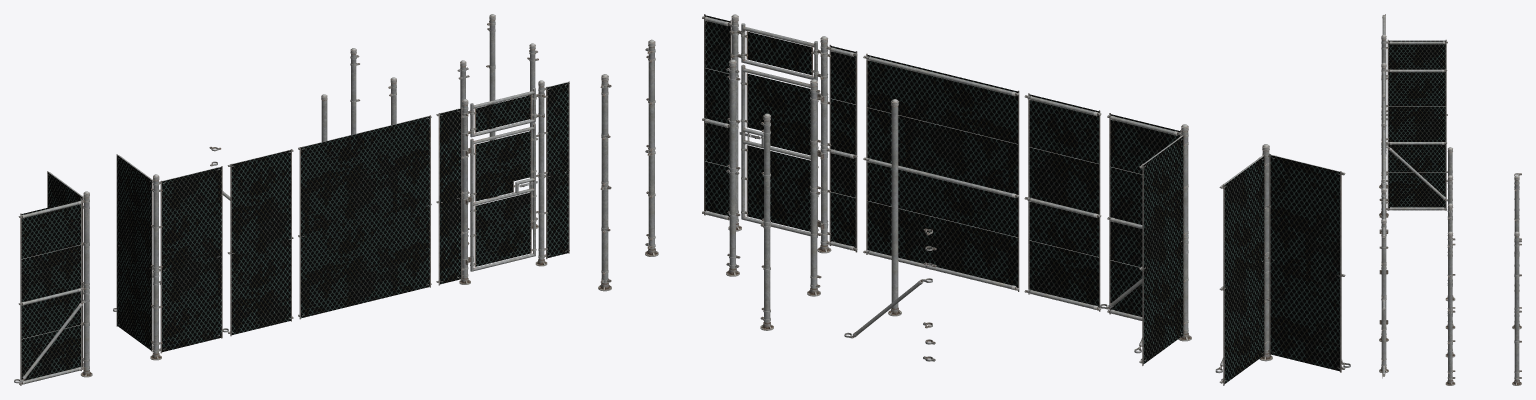
Rendered from alambrado.glb.
3 views of the same model, side by side, from view 1: azimuth 30°, elevation 25°; view 2: azimuth 150°, elevation 25°; view 3: azimuth 270°, elevation 25° (orthographic). The views are drawn at different scales.
Parts seen in each view (by area): view 1: modular_chainlink_fence_double, modular_chainlink_fence_corner_outer, modular_chainlink_fence_door_frame, modular_chainlink_fence_corner_inner, modular_chainlink_fence, modular_chainlink_fence_door_gate, modular_chainlink_fence_start_01_corner_02, modular_chainlink_fence_start_01_corner_01, modular_chainlink_fence_end_02; view 2: modular_chainlink_fence_double, modular_chainlink_fence_corner_inner, modular_chainlink_fence_corner_outer, modular_chainlink_fence_door_frame, modular_chainlink_fence, modular_chainlink_fence_door_gate, modular_chainlink_fence_end_01, modular_chainlink_fence_start_01_corner_02, modular_chainlink_fence_post, modular_chainlink_post_middle, modular_chainlink_fence_start_01_corner_01, modular_chainlink_fence_end_02; view 3: modular_chainlink_fence_corner_outer, modular_chainlink_fence_corner_inner, modular_chainlink_fence_door_frame, modular_chainlink_fence_start_01_corner_02, modular_chainlink_fence_start_01_corner_01, modular_chainlink_fence_end_02, modular_chainlink_fence_double, modular_chainlink_fence_end_01, modular_chainlink_post_middle, modular_chainlink_fence_post.
Part boxes in pixels (x1,y1,x2,y2): modular_chainlink_fence_double: [298, 115, 431, 319]; modular_chainlink_fence_corner_outer: [113, 154, 228, 360]; modular_chainlink_fence_door_frame: [436, 80, 569, 285]; modular_chainlink_fence_corner_inner: [14, 171, 92, 385]; modular_chainlink_fence: [227, 149, 293, 336]; modular_chainlink_fence_door_gate: [470, 123, 536, 271]; modular_chainlink_fence_start_01_corner_02: [486, 14, 498, 198]; modular_chainlink_fence_start_01_corner_01: [527, 43, 538, 229]; modular_chainlink_fence_end_02: [350, 48, 360, 134]; modular_chainlink_fence_double: [863, 53, 1019, 291]; modular_chainlink_fence_corner_inner: [1215, 144, 1350, 385]; modular_chainlink_fence_corner_outer: [1100, 113, 1191, 365]; modular_chainlink_fence_door_frame: [702, 14, 857, 253]; modular_chainlink_fence: [1024, 93, 1101, 311]; modular_chainlink_fence_door_gate: [740, 64, 818, 237]; modular_chainlink_fence_end_01: [807, 79, 821, 296]; modular_chainlink_fence_start_01_corner_02: [598, 74, 611, 291]; modular_chainlink_fence_post: [888, 99, 901, 316]; modular_chainlink_post_middle: [726, 59, 740, 276]; modular_chainlink_fence_start_01_corner_01: [645, 39, 658, 256]; modular_chainlink_fence_end_02: [760, 113, 773, 330]; modular_chainlink_fence_corner_outer: [1379, 62, 1452, 234]; modular_chainlink_fence_corner_inner: [1379, 14, 1452, 188]; modular_chainlink_fence_door_frame: [1379, 183, 1388, 378]; modular_chainlink_fence_start_01_corner_02: [1512, 231, 1521, 385]; modular_chainlink_fence_start_01_corner_01: [1445, 231, 1455, 385]; modular_chainlink_fence_end_02: [1512, 175, 1521, 329]; modular_chainlink_fence_double: [1382, 126, 1385, 183]; modular_chainlink_fence_end_01: [1445, 175, 1455, 329]; modular_chainlink_post_middle: [1445, 203, 1455, 357]; modular_chainlink_fence_post: [1445, 147, 1455, 301].
Size of the model in its own units: 8.11 by 2.52 by 2.15.
2 materials, 2 textured.
